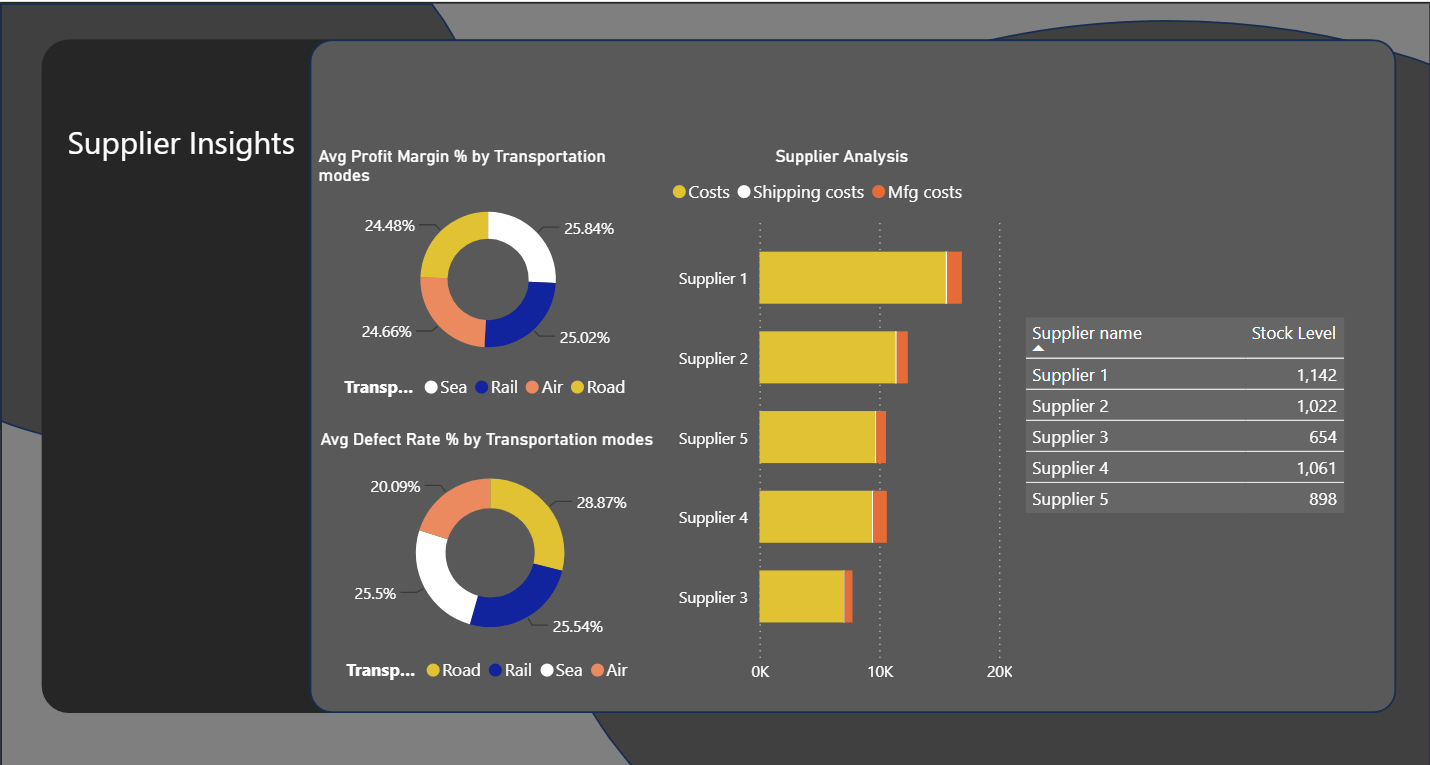

Layout of this report page (visuals, bound fields, positions):
{"tool":"powerbi","page":{"name":"Supplier","canvas":[1280,720],"ordinal":2},"visuals":[{"type":"donutChart","fields":{"Y":["_Measures.Avg Profit Margin %"],"Category":["supply_chain_data.Transportation modes"]},"box":[328.6,174.4,272.1,205.6],"z":0},{"type":"donutChart","fields":{"Y":["_Measures.Avg Defect Rate %"],"Category":["supply_chain_data.Transportation modes"]},"box":[329.6,393.1,272.1,205.6],"z":1000},{"type":"barChart","title":"Supplier Analysis","fields":{"Category":["supply_chain_data.Supplier name"],"Y":["Sum(supply_chain_data.Costs)","Sum(supply_chain_data.Shipping costs)","Sum(supply_chain_data.Mfg costs)"]},"box":[600.7,174.4,273.1,424.3],"z":2000},{"type":"tableEx","fields":{"Values":["supply_chain_data.Supplier name","_Measures.Stock Level"]},"box":[873.8,302.4,279.2,168.3],"z":3000},{"type":"textbox","box":[134,150.2,190.5,45.4],"z":4000}]}

Visuals, with their boxes on the page's 1280x720 design canvas (x1, y1, x2, y2). These are canvas units, not pixel positions in the 1430x765 screenshot, which may show the page scaled, cropped or inside an application window:
donutChart - _Measures.Avg Profit Margin % x supply_chain_data.Transportation modes: {"x1": 329, "y1": 174, "x2": 601, "y2": 380}
donutChart - _Measures.Avg Defect Rate % x supply_chain_data.Transportation modes: {"x1": 330, "y1": 393, "x2": 602, "y2": 599}
"Supplier Analysis" barChart: {"x1": 601, "y1": 174, "x2": 874, "y2": 599}
tableEx - supply_chain_data.Supplier name x _Measures.Stock Level: {"x1": 874, "y1": 302, "x2": 1153, "y2": 471}
textbox: {"x1": 134, "y1": 150, "x2": 324, "y2": 196}
